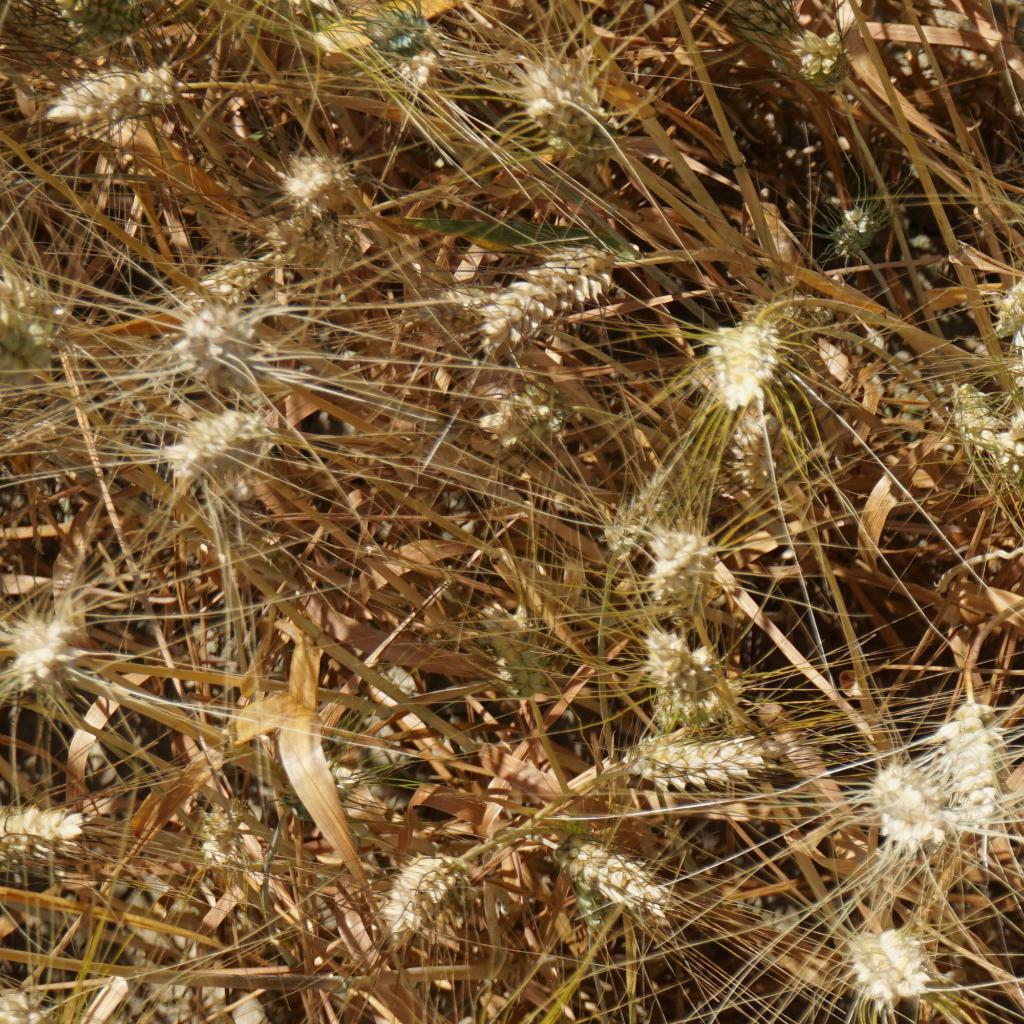0-0: (478, 241, 622, 332), (614, 716, 782, 790), (361, 841, 470, 954), (168, 296, 268, 394), (829, 921, 948, 1003), (36, 57, 186, 121), (518, 57, 626, 140), (937, 707, 1013, 820), (158, 403, 273, 477), (0, 271, 84, 370), (0, 603, 91, 692), (478, 599, 563, 694), (641, 626, 727, 718), (0, 782, 96, 864), (861, 758, 950, 846), (197, 805, 269, 910), (382, 1, 471, 81), (724, 408, 798, 495), (954, 385, 1024, 474), (650, 522, 724, 605), (287, 159, 384, 222), (575, 847, 656, 920), (712, 322, 781, 403), (480, 384, 569, 441), (787, 33, 870, 91), (598, 492, 656, 560), (823, 204, 896, 251), (0, 990, 99, 1024), (990, 510, 1024, 598), (311, 754, 363, 799), (998, 272, 1024, 349)
